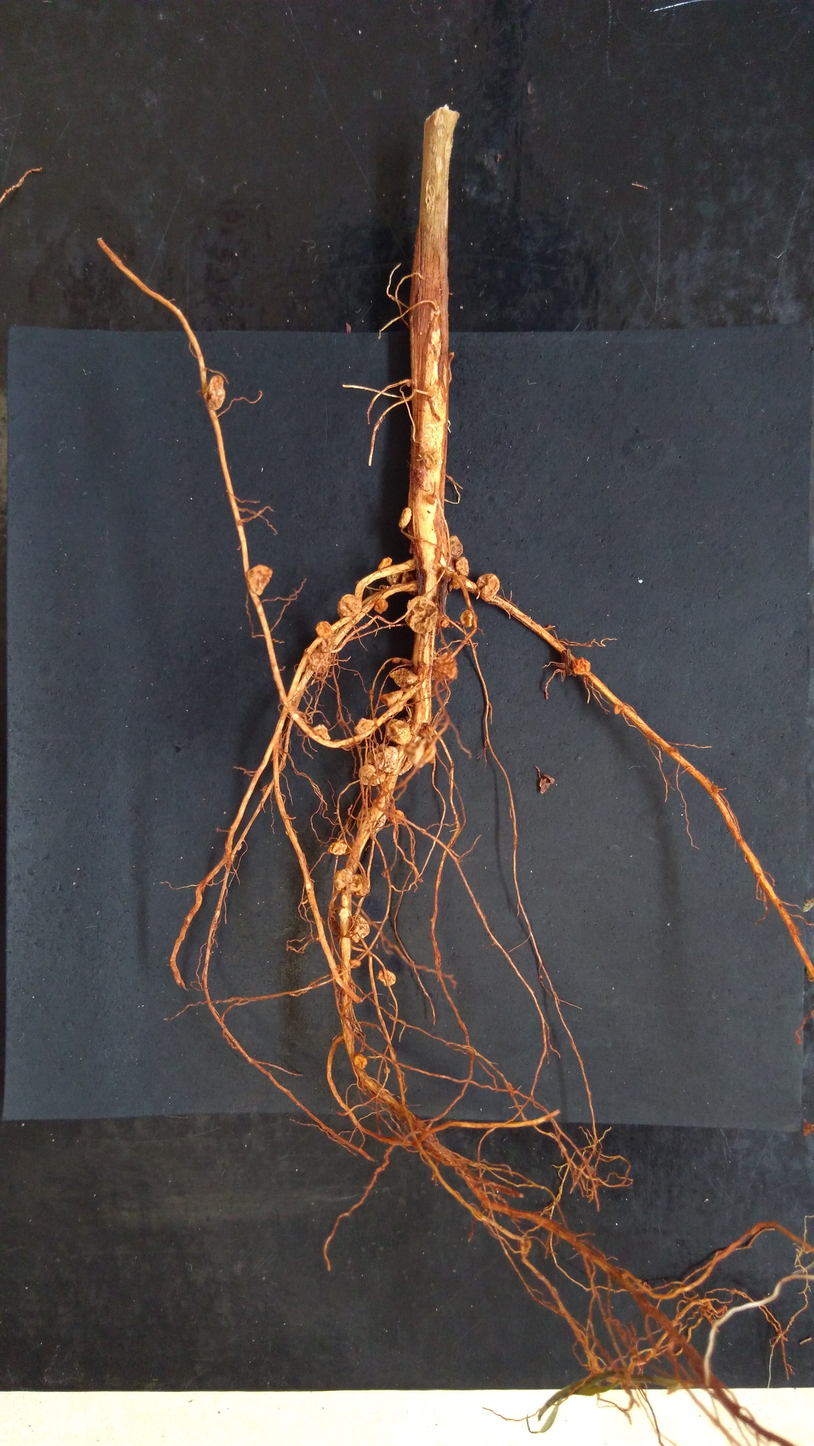nodule: (201, 371, 234, 418), (404, 594, 439, 634), (306, 637, 335, 677), (365, 744, 399, 775), (246, 562, 275, 596), (384, 717, 414, 746), (433, 650, 458, 684), (474, 571, 501, 602), (356, 807, 388, 831), (356, 762, 386, 787), (348, 912, 371, 944), (388, 666, 420, 688), (336, 593, 363, 618), (331, 867, 354, 892), (404, 739, 427, 764), (348, 873, 370, 898), (385, 568, 415, 586), (380, 690, 407, 708), (313, 619, 336, 640), (447, 533, 464, 561), (571, 657, 593, 677), (353, 716, 375, 735), (453, 556, 473, 576), (309, 723, 331, 741), (397, 506, 414, 529), (376, 969, 397, 987), (326, 840, 348, 855), (458, 608, 473, 629), (372, 598, 390, 615), (352, 1053, 369, 1070), (378, 555, 396, 571), (388, 808, 406, 823), (418, 722, 434, 738), (451, 576, 468, 590), (347, 956, 362, 967), (440, 618, 450, 629), (382, 1067, 393, 1074), (392, 657, 400, 663)
